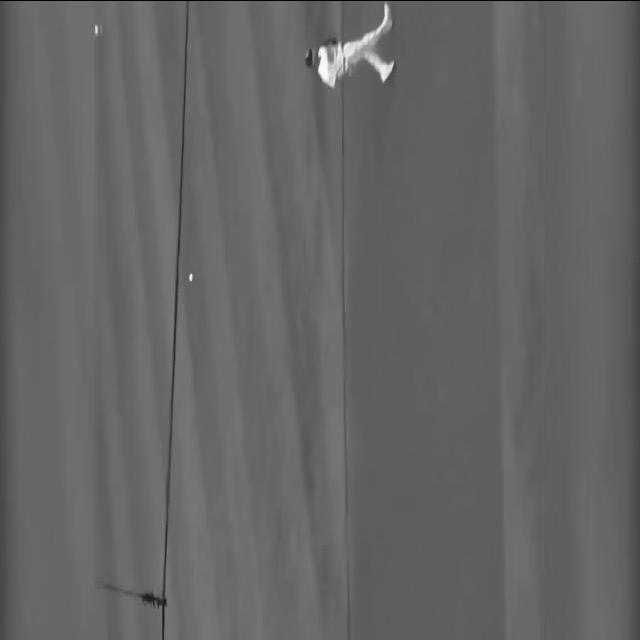baseball: (189, 272, 193, 282)
shoe: (380, 60, 394, 84), (383, 1, 393, 32)
